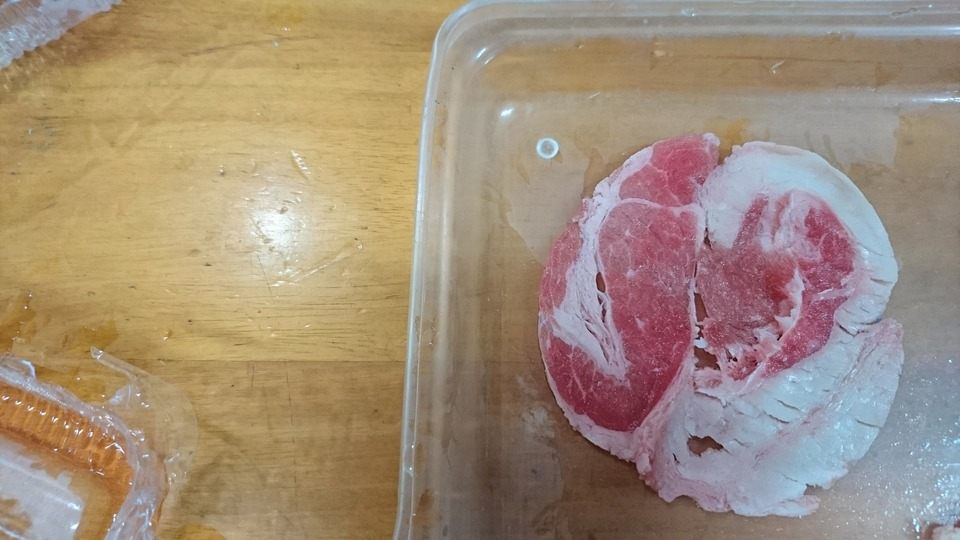restructured meat: (536, 128, 907, 517)
